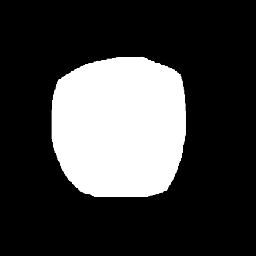mass: (53, 52, 188, 186)
